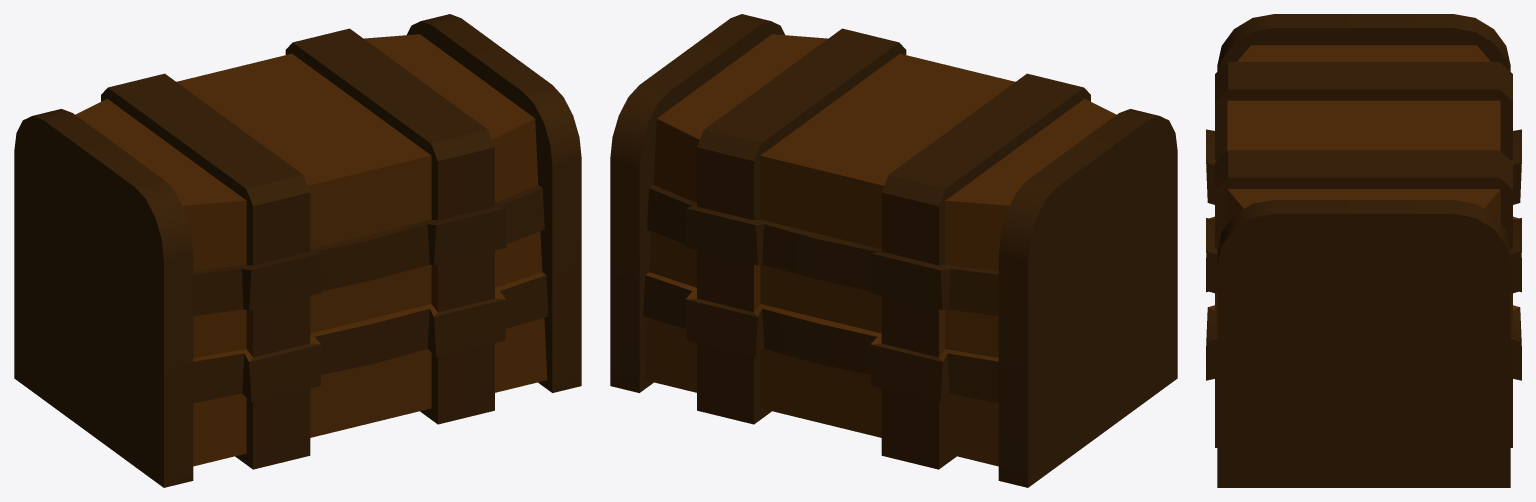
File: Chest_Wooden.fbx
3 views of the same model, side by side, from view 1: azimuth 30°, elevation 25°; view 2: azimuth 150°, elevation 25°; view 3: azimuth 270°, elevation 25° (orthographic). The views are drawn at different scales.
Parts seen in each view (by area): view 1: Chest_Wooden; view 2: Chest_Wooden; view 3: Chest_Wooden.
Part boxes in pixels (<box>): Chest_Wooden: <box>14,14,581,487</box>; Chest_Wooden: <box>610,14,1177,487</box>; Chest_Wooden: <box>1206,14,1521,487</box>.
Size of the model in its own units: 124 by 79.63 by 82.48.
